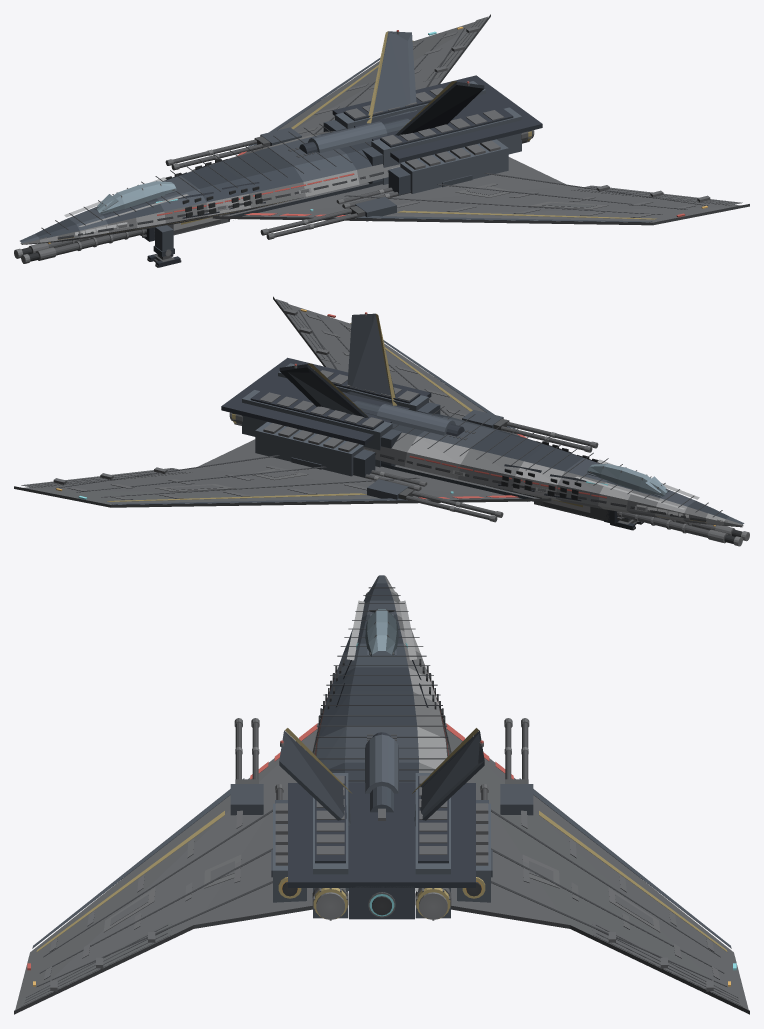
File: calico_enforcer.glb
3 views of the same model, one above another, from view 1: azimuth 30°, elevation 25°; view 2: azimuth 150°, elevation 25°; view 3: azimuth 270°, elevation 25° (orthographic). The views are drawn at different scales.
Parts seen in each view (by area): view 1: fuselage, wing_r, nozzle_block, wing_l, tail_fin_l, missile_pod_r, capital_cannon, tail_fin_r, greebles, spine_hump, missile_pod_l, canopy (+2 smaller); view 2: fuselage, wing_l, nozzle_block, wing_r, tail_fin_r, capital_cannon, missile_pod_l, tail_fin_l, greebles, spine_hump, missile_pod_r, canopy (+1 smaller); view 3: nozzle_block, wing_r, wing_l, fuselage, tail_fin_r, tail_fin_l, greebles, spine_hump, missile_pod_r, missile_pod_l, canopy.
Part boxes in pixels (x1,y1,x2,y2): fuselage: [20, 120, 400, 244]; wing_r: [212, 157, 749, 225]; nozzle_block: [323, 75, 542, 195]; wing_l: [244, 14, 490, 153]; tail_fin_l: [366, 31, 416, 123]; missile_pod_r: [260, 175, 472, 239]; capital_cannon: [14, 205, 267, 263]; tail_fin_r: [395, 81, 484, 135]; greebles: [57, 26, 710, 242]; spine_hump: [299, 118, 410, 154]; missile_pod_l: [165, 127, 301, 170]; canopy: [94, 181, 176, 214]; fuselage: [363, 402, 744, 527]; wing_l: [14, 439, 551, 507]; nozzle_block: [221, 357, 440, 477]; wing_r: [273, 296, 518, 435]; tail_fin_r: [347, 313, 397, 405]; capital_cannon: [493, 487, 749, 546]; missile_pod_l: [291, 457, 503, 522]; tail_fin_l: [279, 363, 368, 417]; greebles: [53, 309, 706, 524]; spine_hump: [353, 400, 464, 436]; missile_pod_r: [462, 410, 598, 452]; canopy: [587, 463, 669, 497]; nozzle_block: [273, 773, 490, 920]; wing_r: [14, 723, 318, 1014]; wing_l: [445, 723, 749, 1014]; fuselage: [312, 575, 451, 891]; tail_fin_r: [279, 728, 351, 826]; tail_fin_l: [412, 728, 484, 826]; greebles: [44, 744, 719, 991]; spine_hump: [365, 732, 398, 820]; missile_pod_r: [230, 718, 283, 877]; missile_pod_l: [480, 718, 533, 877]; canopy: [365, 608, 398, 656].
Bounding box in the file's own units: 92.05 × 18.88 × 68.8.
